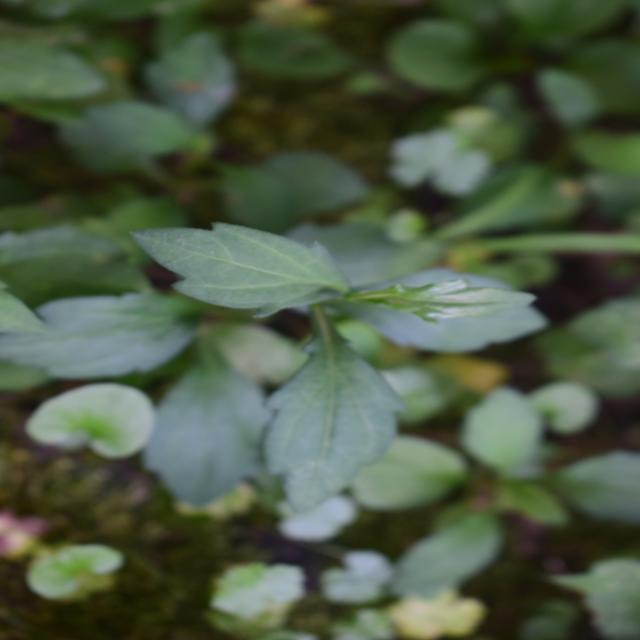Indian aster: (207, 96, 491, 593)
